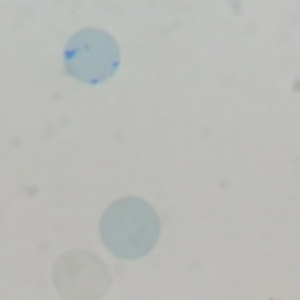aggregate reticulocyte: (61, 26, 122, 86)
erythrocyte: (97, 196, 162, 261), (50, 248, 114, 300)
